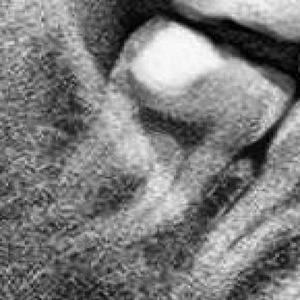tooth: (61, 22, 295, 290), (190, 96, 300, 300)
